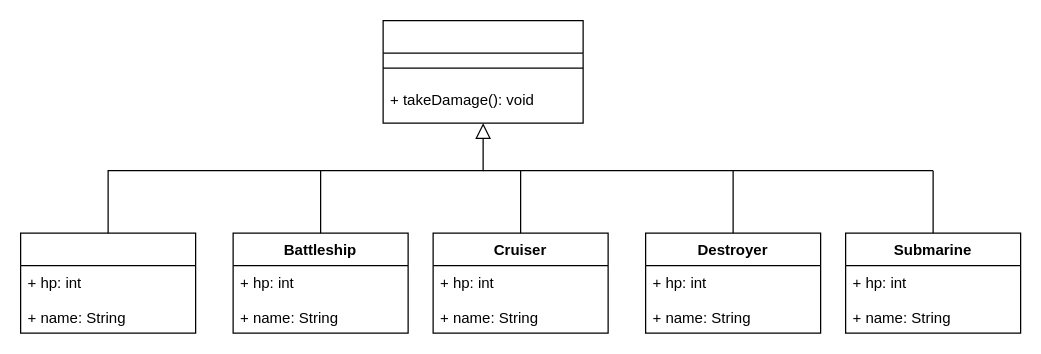
The diagram is 1041 pixels wide and 354 high, and some of its shapes have lost their labels. The shapes that lost their labels are listed below. From the top down, each one's box as (x1, y1, x2, y2) in pixels, then its label:
(382, 19, 583, 123): Ship
(19, 232, 196, 333): Carrier
